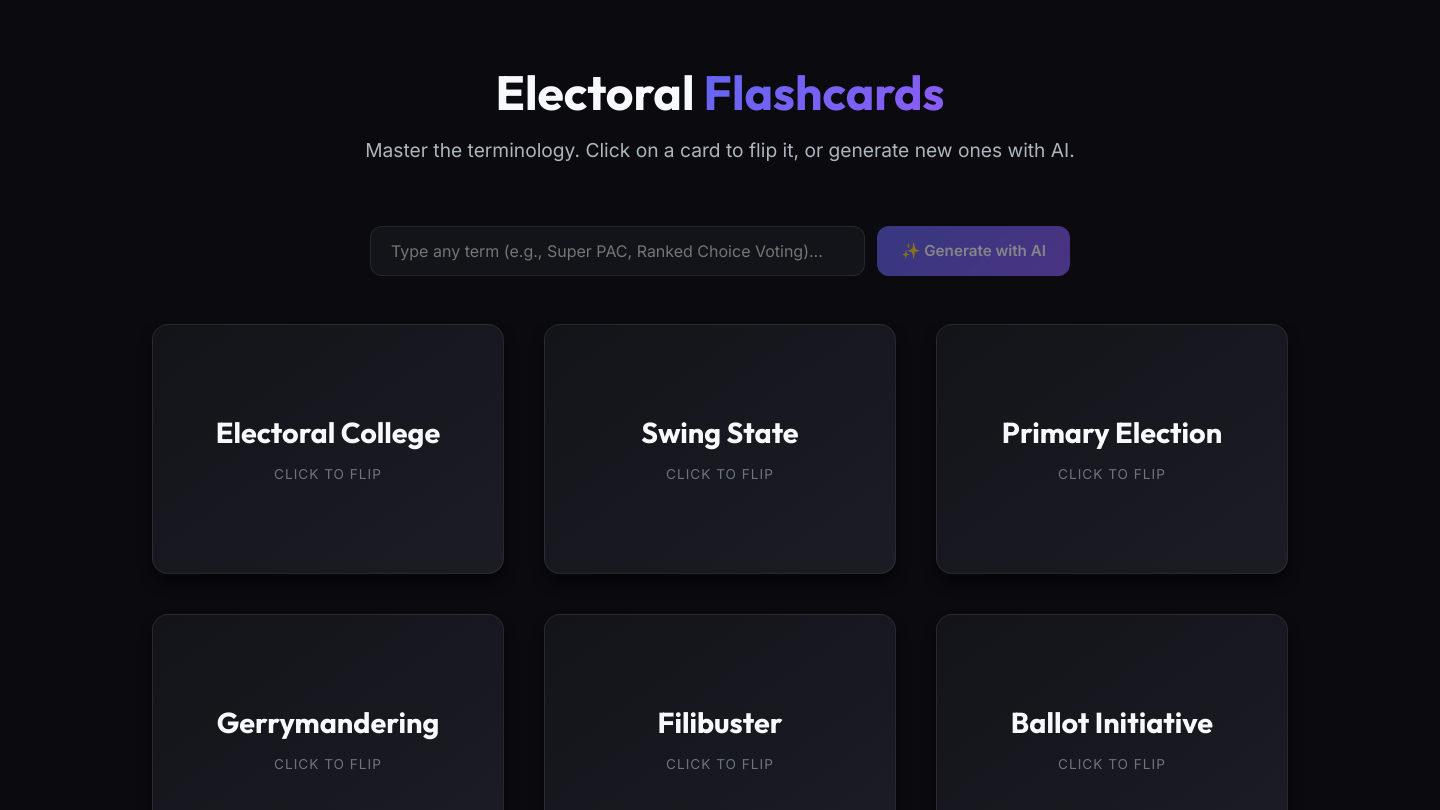
it: Flashcards Component › flips a card on click and updates aria-expanded
Click the button with aria-label "Flashcard: Electoral College" at (328, 449), box [152,324,504,574]
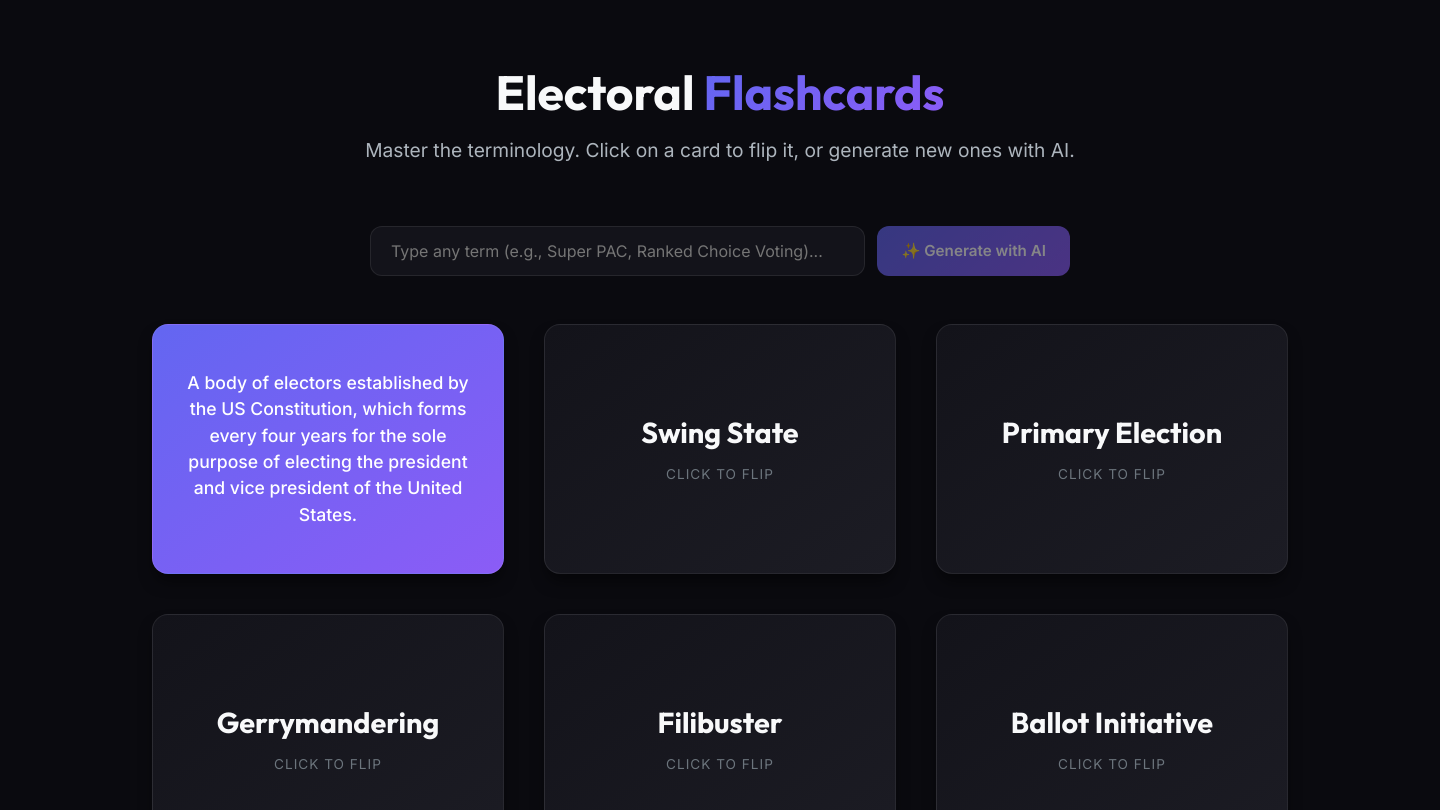
Now the button with aria-label "Flashcard: Electoral College" is expanded
Click the button with aria-label "Flashcard: Electoral College" at (328, 449), box [152,324,504,574]
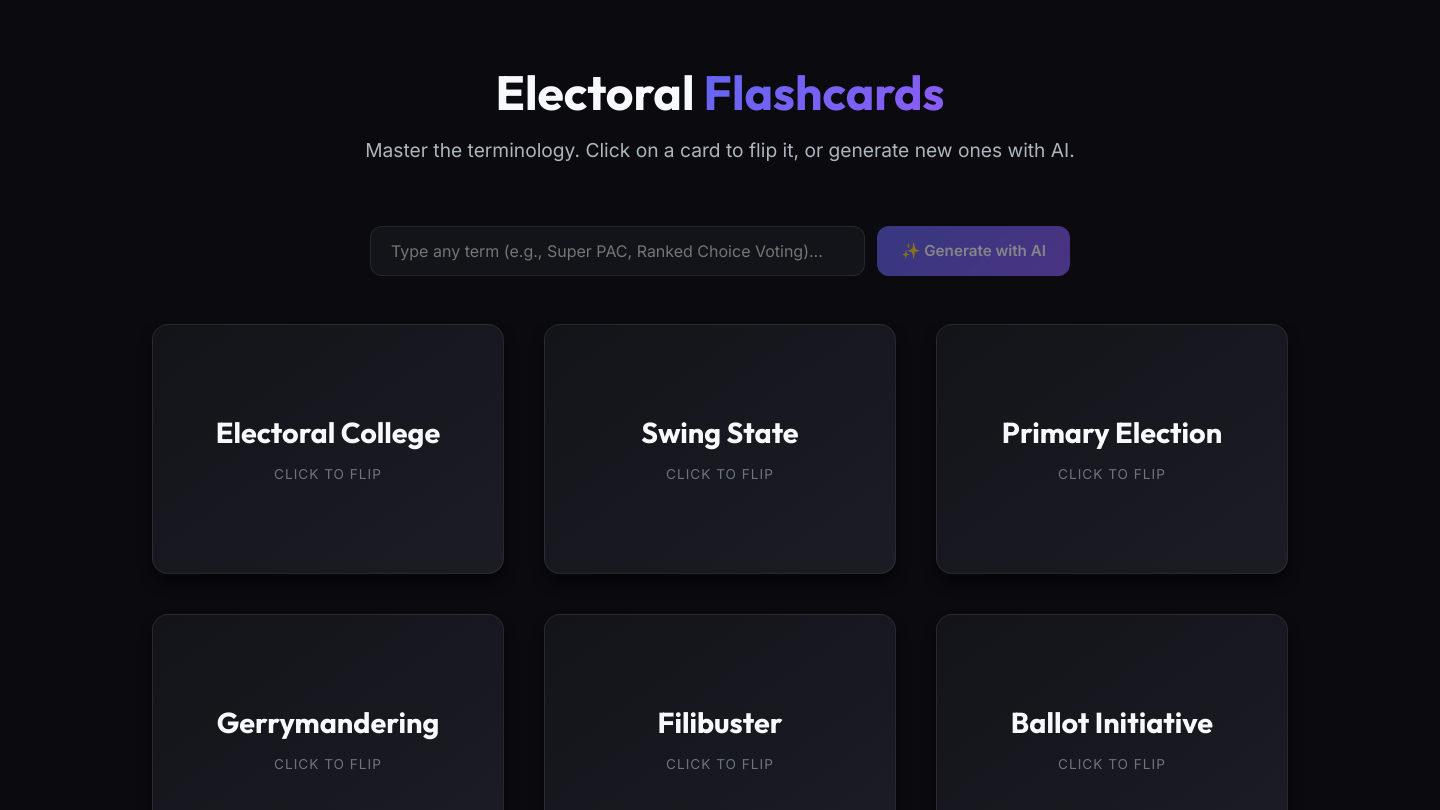
Now the button with aria-label "Flashcard: Electoral College" is collapsed, box [152,324,504,574]
